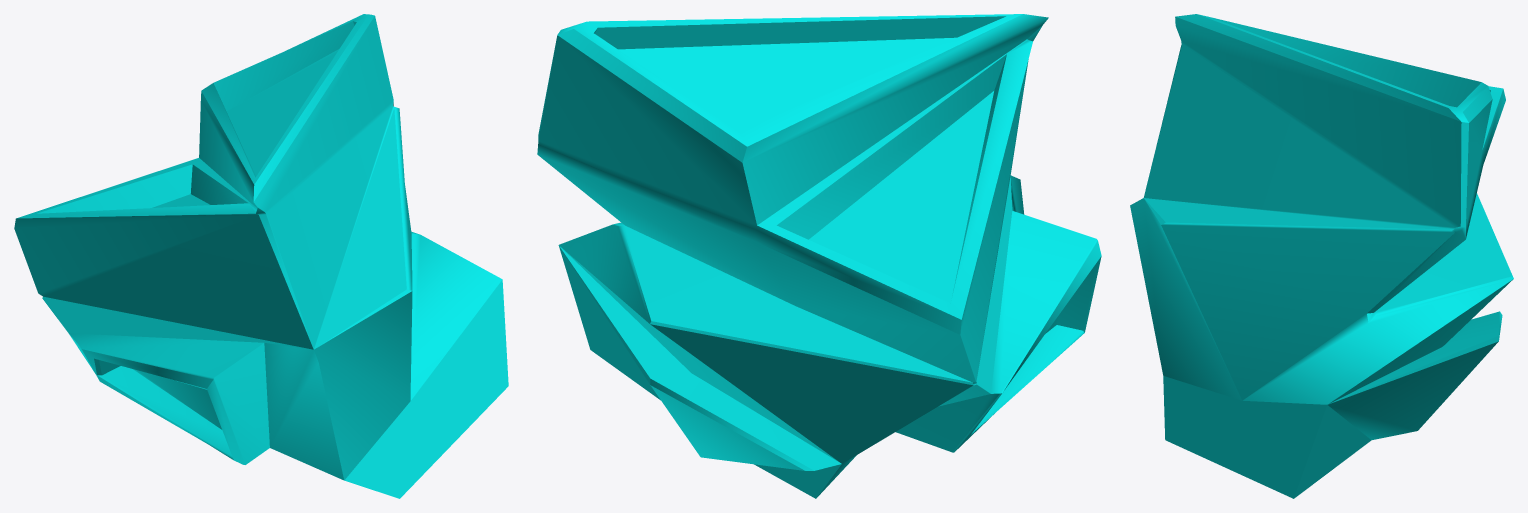
Rendered from tricystal6_small_alpha.fbx.
3 renders of one model, left to right at view 1: azimuth 30°, elevation 25°; view 2: azimuth 150°, elevation 25°; view 3: azimuth 270°, elevation 25°, orthographic. The views are drawn at different scales.
Parts seen in each view (by area): view 1: pCube1; view 2: pCube1; view 3: pCube1.
Boxes of the visible parts, bbox=[...] form: pCube1: bbox=[14, 14, 508, 498]; pCube1: bbox=[537, 14, 1101, 498]; pCube1: bbox=[1130, 14, 1513, 498].
Size of the model in its own units: 8.49 by 7.21 by 6.54.
